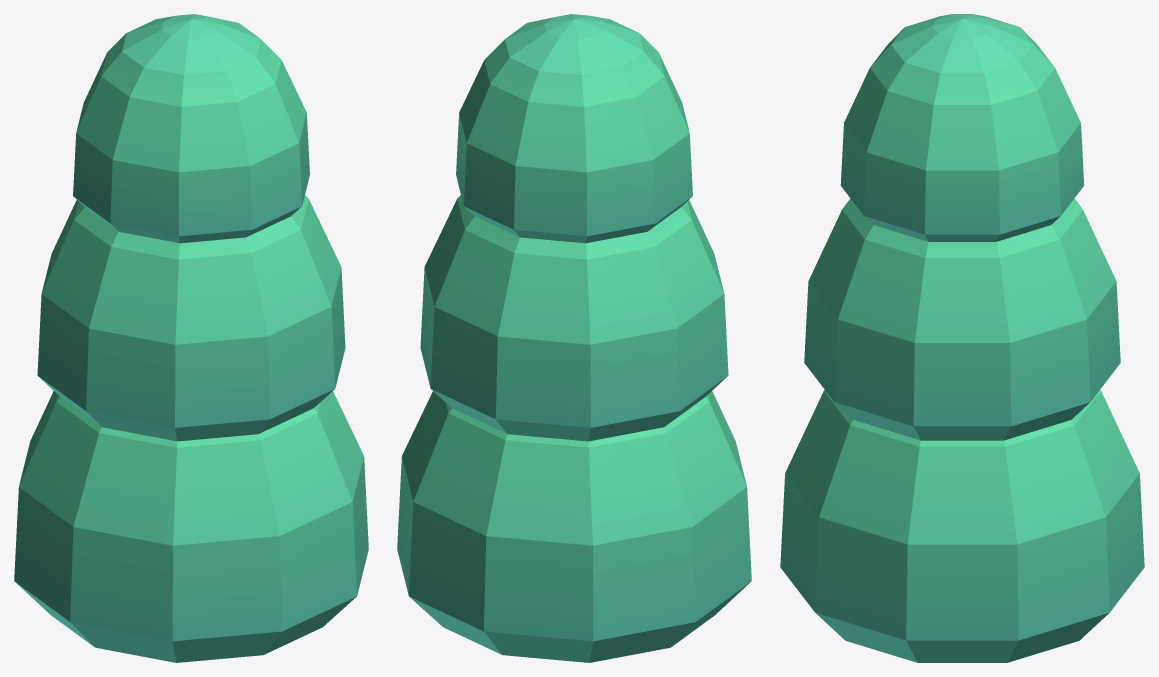
File: bush006.obj
The picture shows the model from 3 angles, left to right: view 1: azimuth 30°, elevation 25°; view 2: azimuth 150°, elevation 25°; view 3: azimuth 270°, elevation 25°; orthographic projection.
Parts seen in each view (by area): view 1: bush.006; view 2: bush.006; view 3: bush.006.
Part boxes in pixels (left/top/right/bottom): bush.006: left=14, top=14, right=368, bottom=662; bush.006: left=397, top=14, right=751, bottom=662; bush.006: left=780, top=14, right=1144, bottom=662.
Bounding box in the file's own units: 3.31 × 6.45 × 3.48.
Materials: 1 (1 with a texture image).
